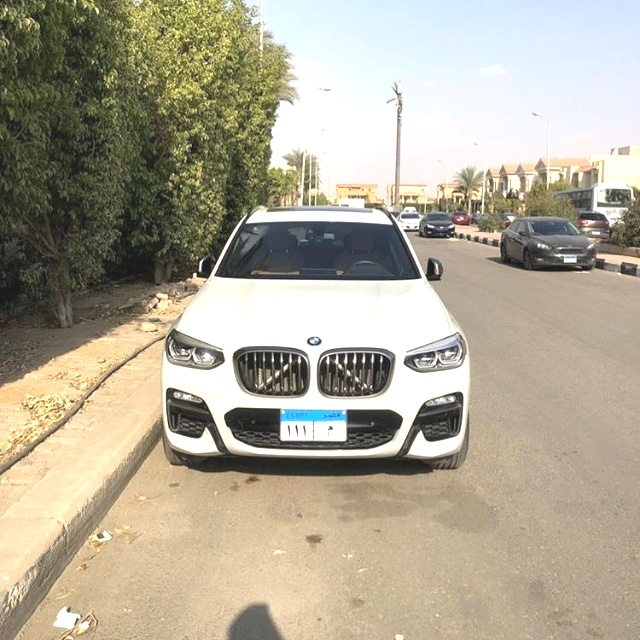License Plate: (278, 407, 349, 444)
